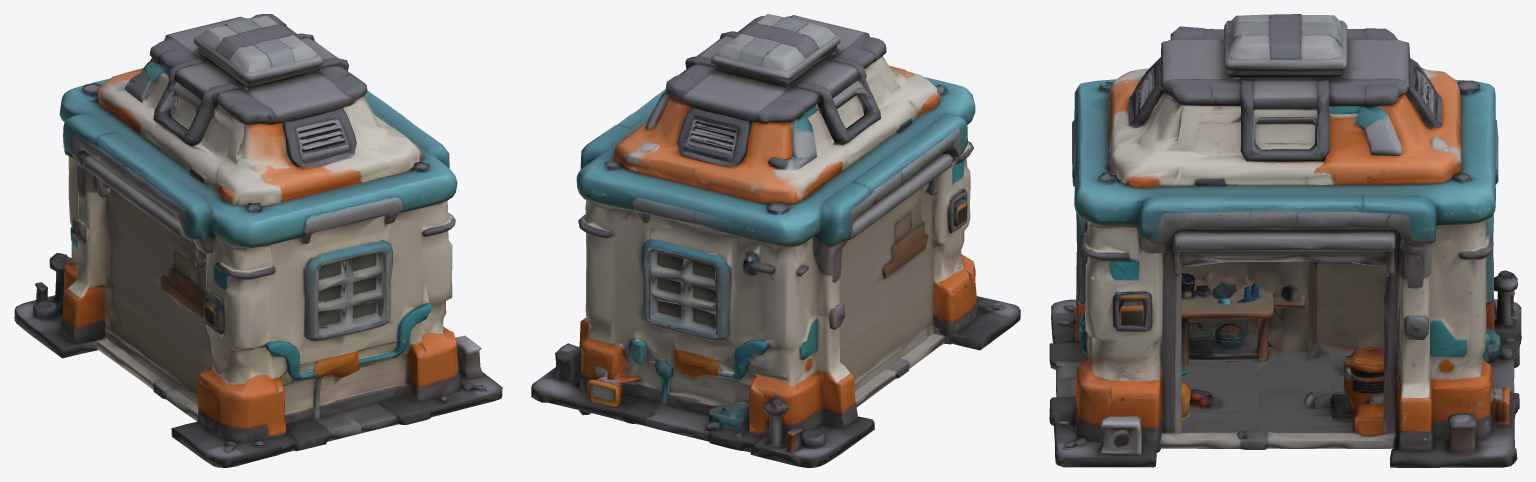
File: atelier.glb
3 views of the same model, side by side, from view 1: azimuth 30°, elevation 25°; view 2: azimuth 150°, elevation 25°; view 3: azimuth 270°, elevation 25° (orthographic). The views are drawn at different scales.
Parts seen in each view (by area): view 1: tripo_node_cf7fbd34-22f2-4267-85c3-6080e401470f; view 2: tripo_node_cf7fbd34-22f2-4267-85c3-6080e401470f; view 3: tripo_node_cf7fbd34-22f2-4267-85c3-6080e401470f.
Part boxes in pixels (left/top/right/bottom): tripo_node_cf7fbd34-22f2-4267-85c3-6080e401470f: left=14, top=14, right=502, bottom=467; tripo_node_cf7fbd34-22f2-4267-85c3-6080e401470f: left=531, top=14, right=1020, bottom=467; tripo_node_cf7fbd34-22f2-4267-85c3-6080e401470f: left=1049, top=14, right=1521, bottom=467.
Bounding box in the file's own units: 0.8002 × 0.8855 × 1.
Materials: 1 (1 with a texture image).
